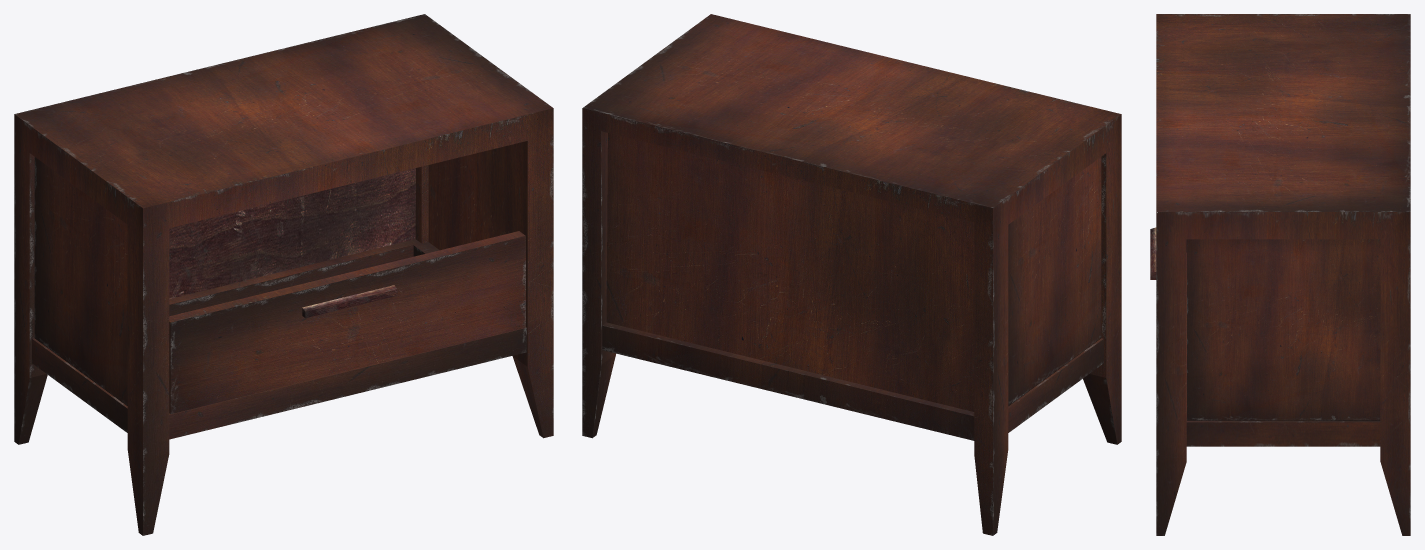
The model's file is Tumba01.FBX.
The picture shows the model from 3 angles, left to right: view 1: azimuth 30°, elevation 25°; view 2: azimuth 150°, elevation 25°; view 3: azimuth 270°, elevation 25°; orthographic projection.
Parts seen in each view (by area): view 1: tumba01; view 2: tumba01; view 3: tumba01.
Part boxes in pixels (x1,y1,x2,y2): tumba01: (14,14,553,535); tumba01: (582,14,1121,535); tumba01: (1150,14,1410,535).
Size of the model in its own units: 1.82 by 1.39 by 1.01.
